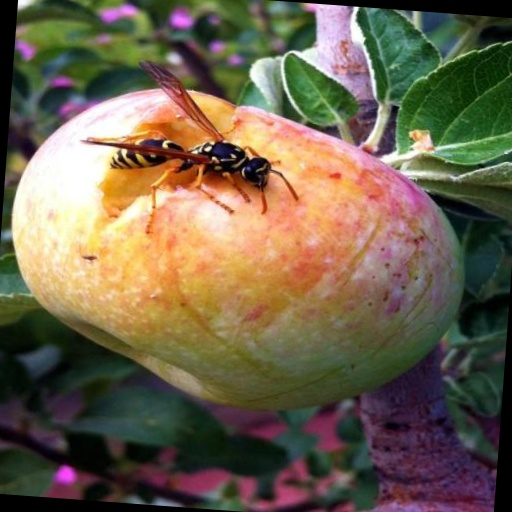fruit: (402, 155, 499, 494)
